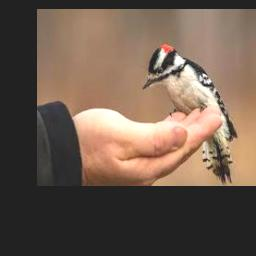Woodpecker: (142, 43, 238, 185)
